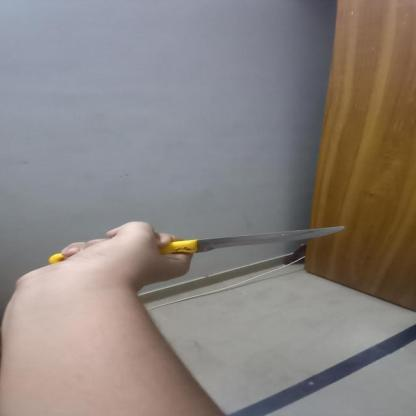Knife: (18, 224, 356, 274)
